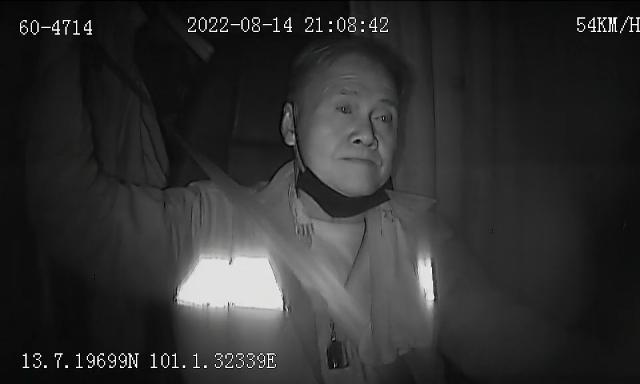SafeDriving: (368, 102, 400, 132), (328, 94, 361, 123)
Seatbelt: (183, 146, 374, 352)
